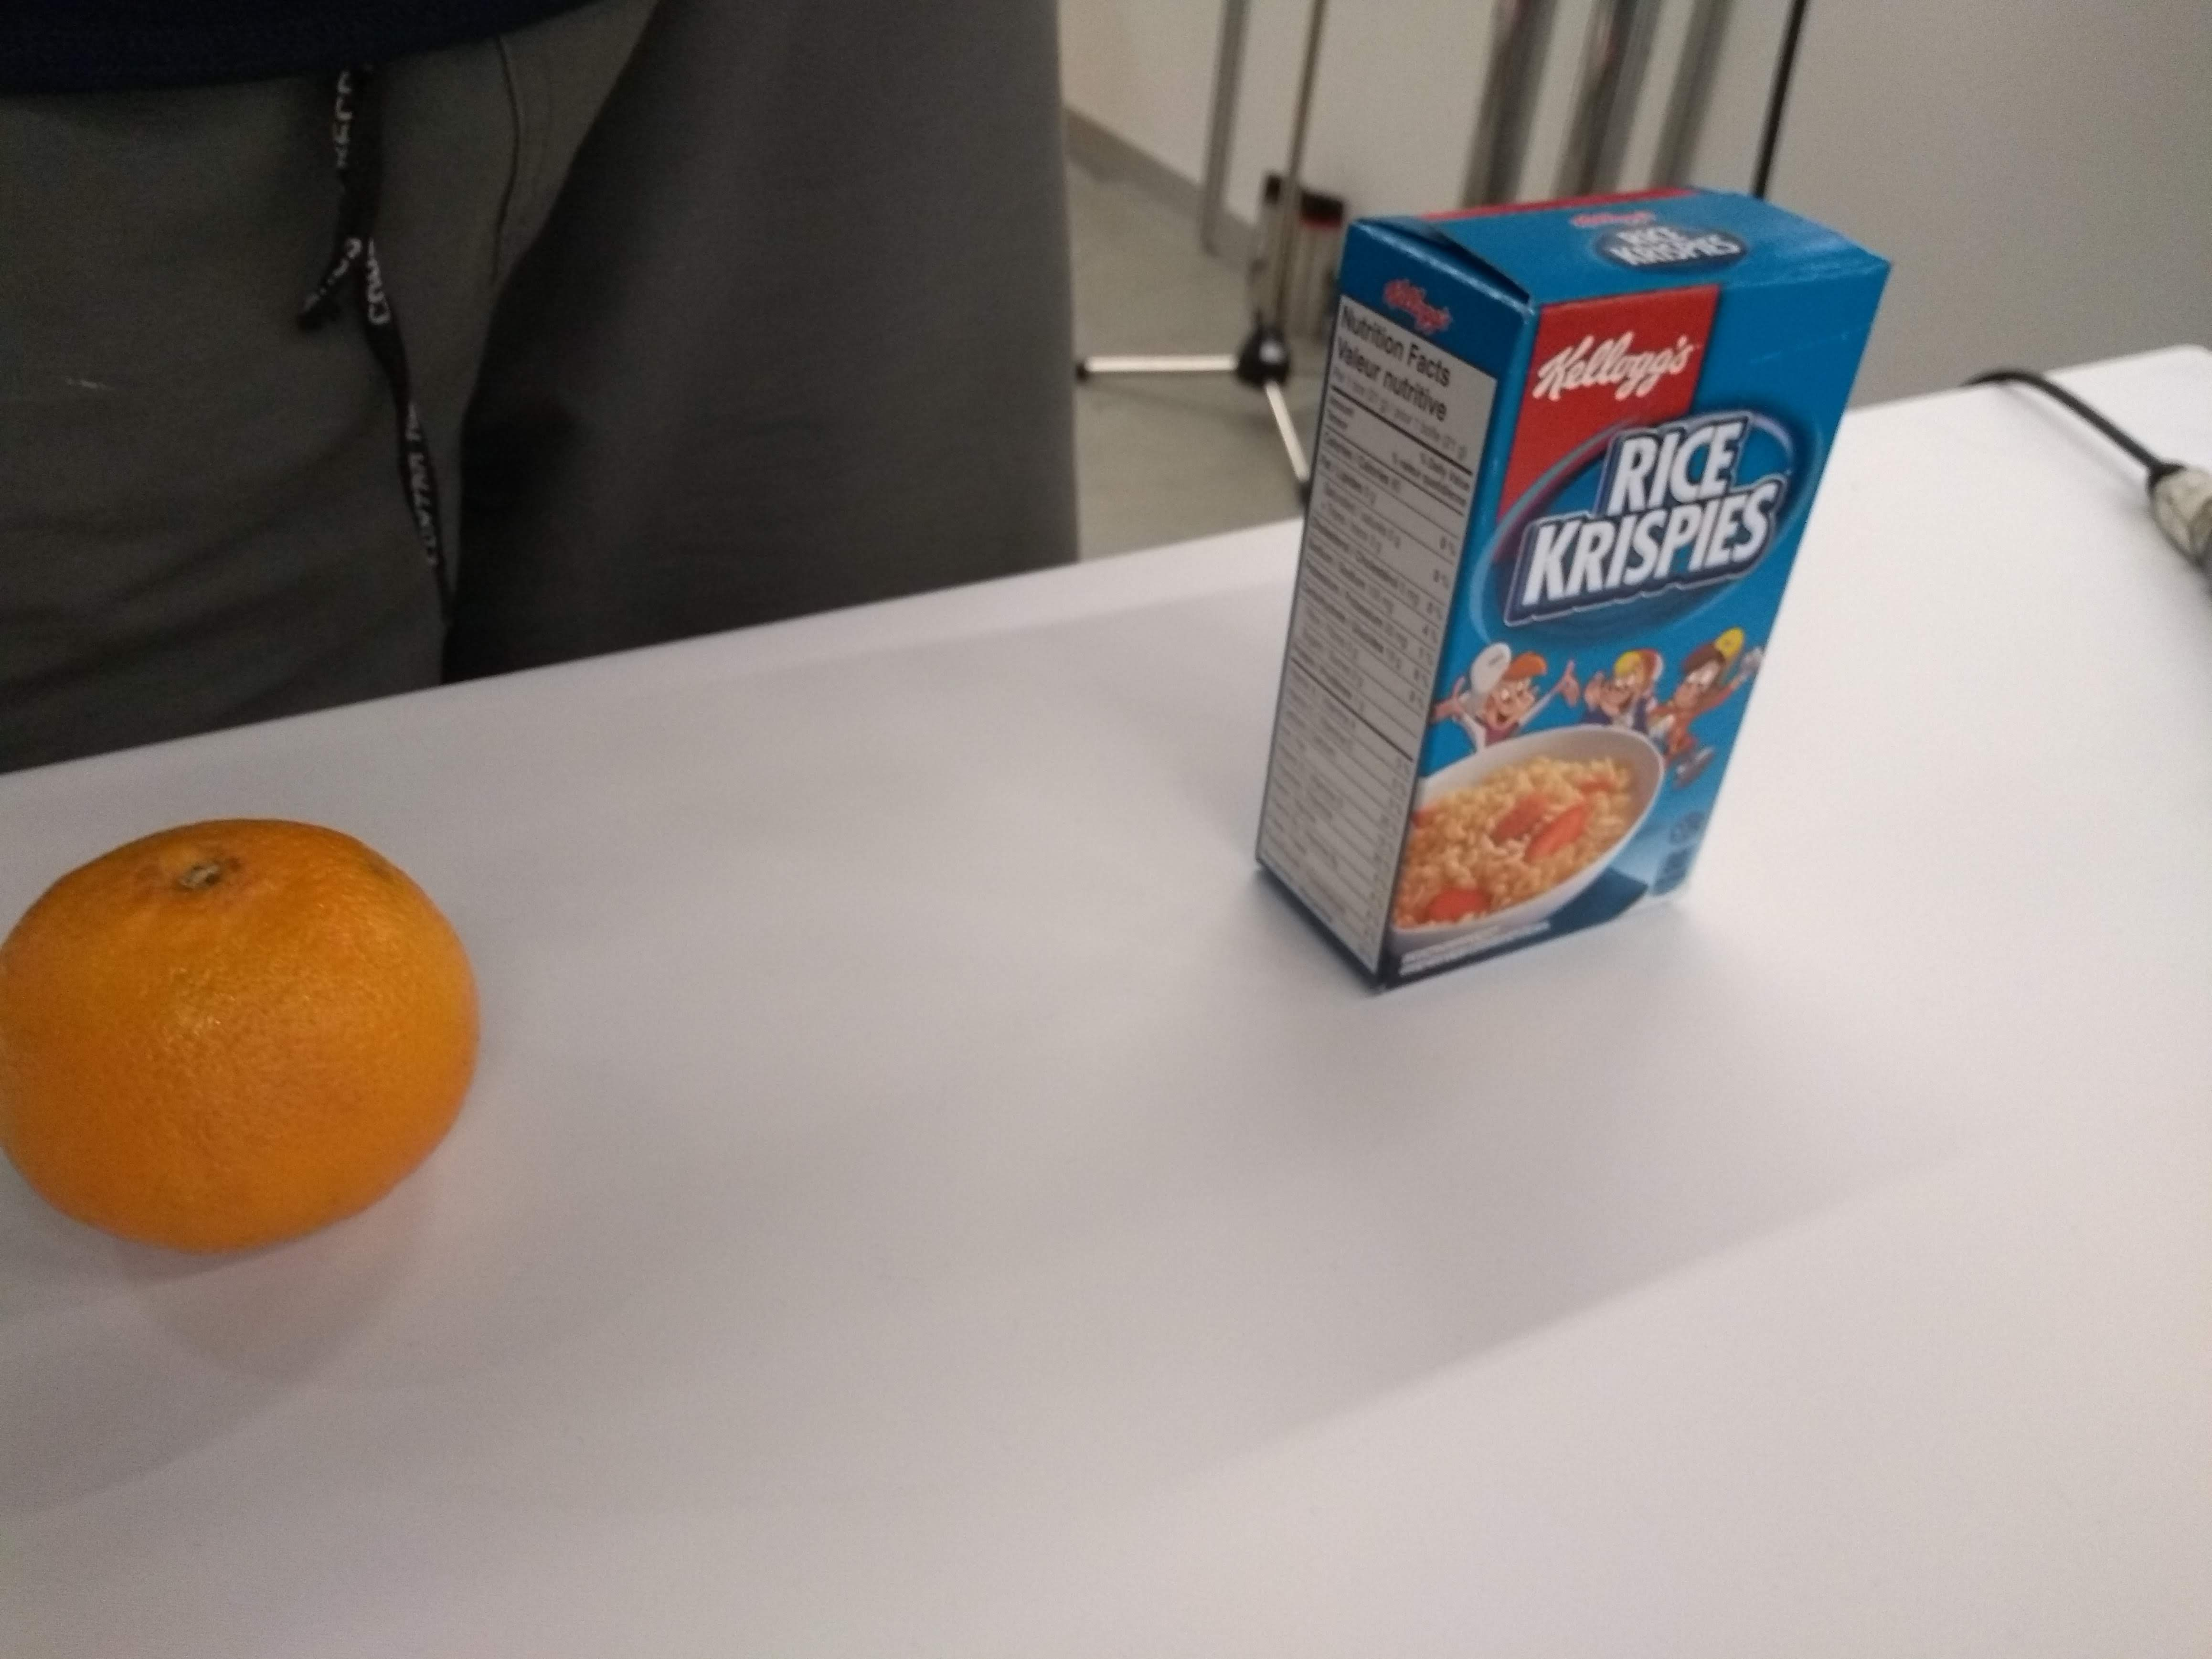cereal: (1244, 176, 1907, 1007)
orange: (0, 802, 493, 1279)
